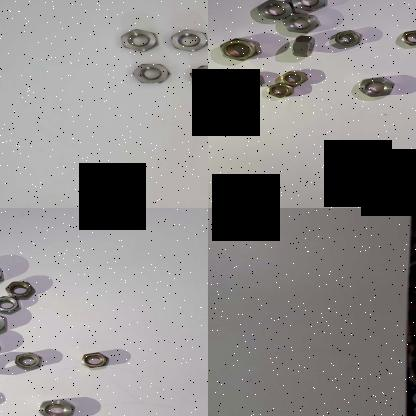NUTS: (214, 36, 264, 63), (113, 29, 161, 52), (355, 74, 396, 100), (130, 61, 174, 84), (166, 30, 208, 54), (254, 0, 295, 23), (279, 12, 319, 34), (35, 398, 79, 416), (288, 30, 316, 58), (77, 350, 112, 372), (2, 279, 36, 301), (11, 352, 49, 370), (278, 70, 313, 88), (332, 29, 363, 49), (185, 63, 208, 89), (235, 71, 264, 91), (262, 82, 294, 100), (289, 0, 330, 14), (0, 295, 22, 314), (0, 309, 15, 335), (397, 28, 416, 48)
